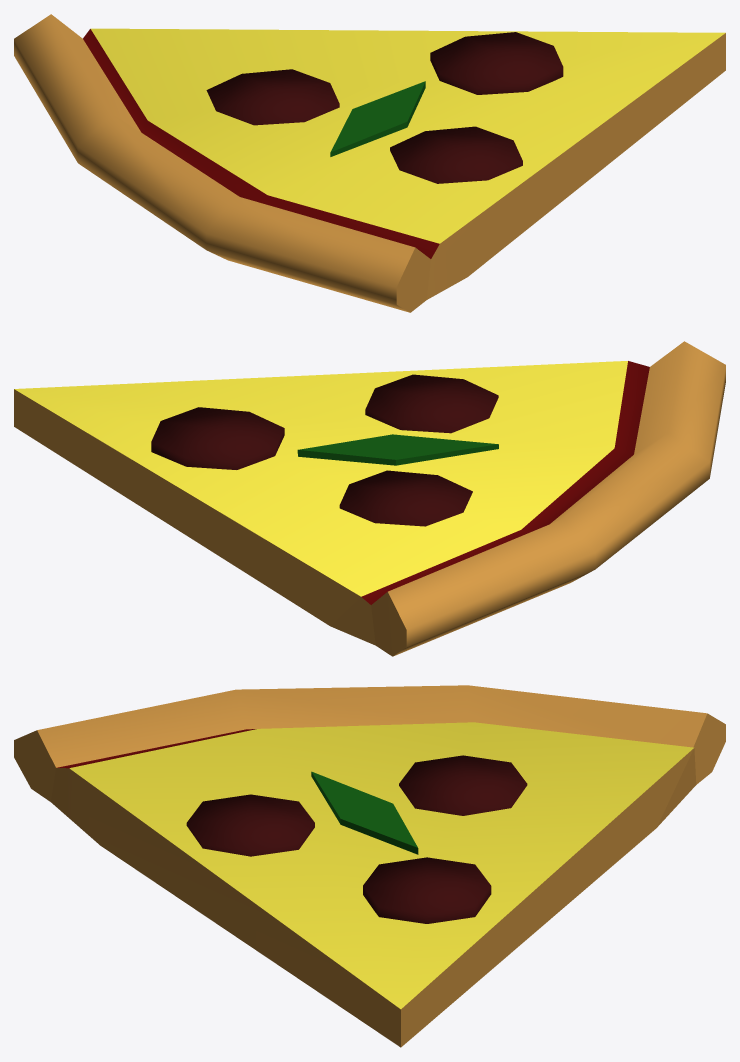
File: Slice005.FBX
The picture shows the model from 3 angles, top to bottom: view 1: azimuth 30°, elevation 25°; view 2: azimuth 150°, elevation 25°; view 3: azimuth 270°, elevation 25°; orthographic projection.
Visible parts, largest first — view 1: Slice005; view 2: Slice005; view 3: Slice005.
Part boxes in pixels (x1=…): Slice005: x1=14, y1=14, x2=725, y2=312; Slice005: x1=14, y1=341, x2=725, y2=656; Slice005: x1=14, y1=685, x2=725, y2=1047.
Size of the model in its own units: 7.43 by 0.8516 by 7.35.
